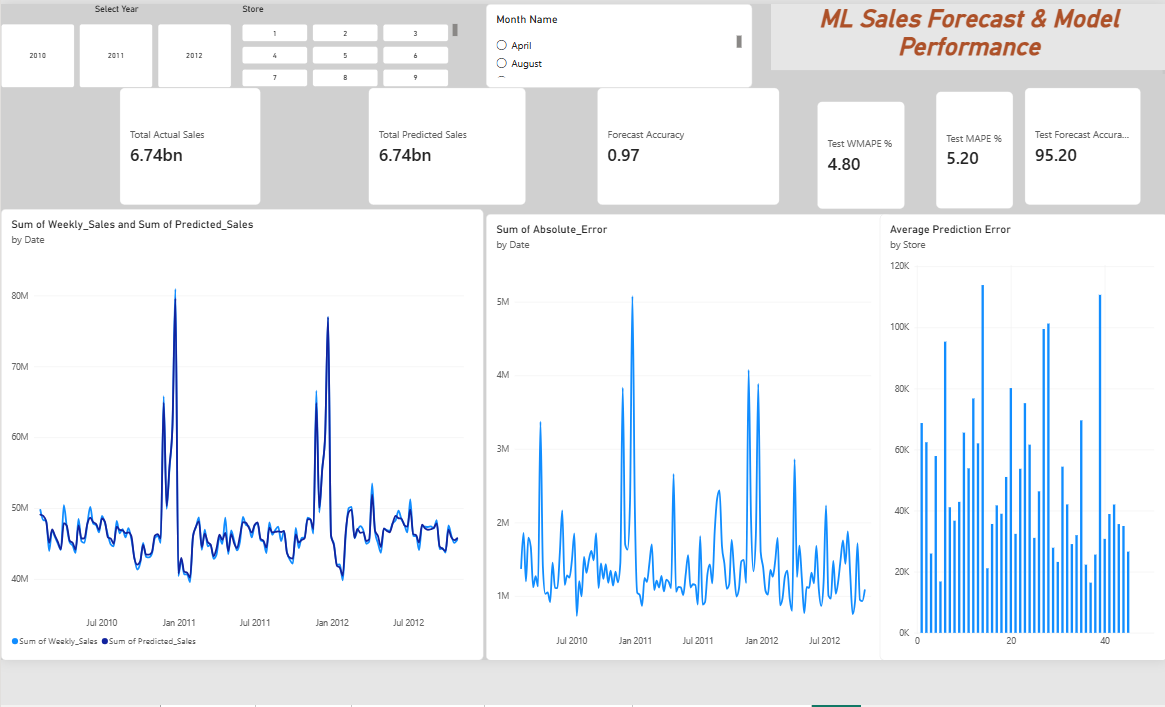

The page's visual inventory and layout, read from the dashboard file:
{"tool":"powerbi","page":{"name":"ML Forecast","canvas":[1920,1080],"ordinal":2},"visuals":[{"type":"lineChart","fields":{"Category":["ForecastData.Date"],"Y":["ForecastData.Sum of Weekly_Sales","Sum(ForecastData.Predicted_Sales)"]},"box":[0,337.6,794.5,743.1],"z":0},{"type":"cardVisual","fields":{"Data":["ForecastData.Total Actual Sales"]},"box":[195.5,137.9,232.6,193.5],"z":1000},{"type":"cardVisual","fields":{"Data":["ForecastData.Total Predicted Sales"]},"box":[605.1,137.9,259.3,193.5],"z":2000},{"type":"cardVisual","fields":{"Data":["ForecastData.Forecast Accuracy"]},"box":[981.8,137.9,300.5,193.5],"z":3000},{"type":"advancedSlicerVisual","title":"Select Year","fields":{"Values":["ForecastData.Year"]},"box":[0,0,380.8,137.9],"z":4000},{"type":"advancedSlicerVisual","fields":{"Values":["ForecastData.Store"]},"box":[397.3,0,354,137.9],"z":5000},{"type":"listSlicer","fields":{"Values":["Walmart.Month Name"]},"box":[798.6,0,438.4,137.9],"z":6000},{"type":"lineChart","fields":{"Category":["Walmart.Date"],"Y":["Sum(ForecastData.Absolute_Error)"]},"box":[798.6,345.8,666.9,734.8],"z":7000},{"type":"cardVisual","fields":{"Data":["DateTable.Test WMAPE %"]},"box":[1344.1,160.5,144.1,177],"z":8000},{"type":"cardVisual","fields":{"Data":["DateTable.Test MAPE %"]},"box":[1539.6,144.1,127.6,193.5],"z":9000},{"type":"cardVisual","fields":{"Data":["DateTable.Test Forecast Accuracy %"]},"box":[1685.8,137.9,191.4,193.5],"z":10000},{"type":"clusteredColumnChart","fields":{"Category":["ForecastData.Store"],"Y":["DateTable.Average Prediction Error"]},"box":[1447,345.8,473.4,734.8],"z":11000},{"type":"textbox","title":"ML Sales Forecast & Model Performance","box":[1267.9,0,652.5,115.3],"z":12000}]}

Visuals, with their boxes on the page's 1920x1080 design canvas (x1, y1, x2, y2). These are canvas units, not pixel positions in the 1165x707 screenshot, which may show the page scaled, cropped or inside an application window:
lineChart - ForecastData.Date x ForecastData.Sum of Weekly_Sales: [left=0, top=338, right=794, bottom=1081]
cardVisual - ForecastData.Total Actual Sales: [left=196, top=138, right=428, bottom=331]
cardVisual - ForecastData.Total Predicted Sales: [left=605, top=138, right=864, bottom=331]
cardVisual - ForecastData.Forecast Accuracy: [left=982, top=138, right=1282, bottom=331]
"Select Year" advancedSlicerVisual: [left=0, top=0, right=381, bottom=138]
advancedSlicerVisual - ForecastData.Store: [left=397, top=0, right=751, bottom=138]
listSlicer - Walmart.Month Name: [left=799, top=0, right=1237, bottom=138]
lineChart - Walmart.Date x Sum(ForecastData.Absolute_Error): [left=799, top=346, right=1466, bottom=1081]
cardVisual - DateTable.Test WMAPE %: [left=1344, top=160, right=1488, bottom=338]
cardVisual - DateTable.Test MAPE %: [left=1540, top=144, right=1667, bottom=338]
cardVisual - DateTable.Test Forecast Accuracy %: [left=1686, top=138, right=1877, bottom=331]
clusteredColumnChart - ForecastData.Store x DateTable.Average Prediction Error: [left=1447, top=346, right=1920, bottom=1081]
"ML Sales Forecast & Model Performance" textbox: [left=1268, top=0, right=1920, bottom=115]
